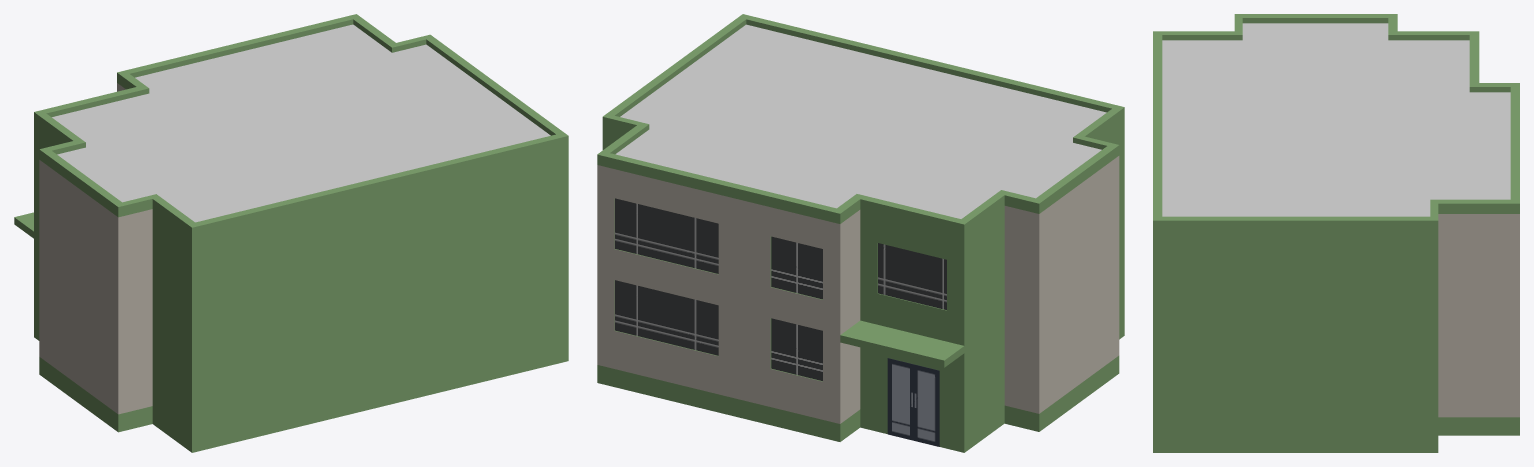
The model's file is spw-urban-bldg-17.glb.
3 views of the same model, side by side, from view 1: azimuth 30°, elevation 25°; view 2: azimuth 150°, elevation 25°; view 3: azimuth 270°, elevation 25° (orthographic). The views are drawn at different scales.
Parts seen in each view (by area): view 1: SPW_Urban_Bldg_17; view 2: SPW_Urban_Bldg_17; view 3: SPW_Urban_Bldg_17.
Boxes of the visible parts, x1,y1,x2,y2 form: SPW_Urban_Bldg_17: (14, 14, 568, 452); SPW_Urban_Bldg_17: (597, 14, 1124, 452); SPW_Urban_Bldg_17: (1153, 14, 1519, 452).
Size of the model in its own units: 21 by 11 by 15.75.
Materials: 1 (1 with a texture image).
